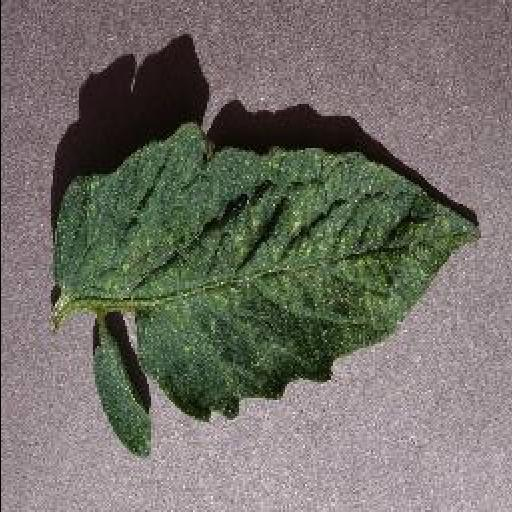disease_tomato: (56, 124, 480, 456)
